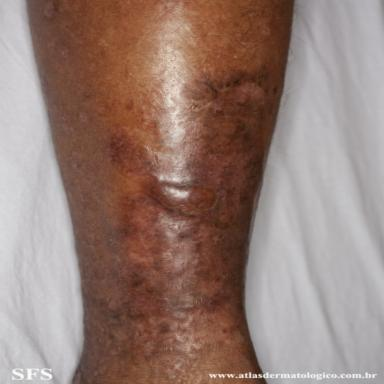Epidermolysis-Bullosa-Pruriginosa: (80, 66, 273, 378)
